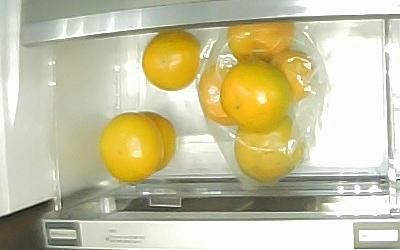persimmon: (219, 58, 290, 132), (100, 112, 164, 183), (142, 29, 201, 92), (140, 110, 177, 174)
persimmon_vinyl: (234, 115, 305, 182), (227, 20, 295, 63), (197, 60, 238, 126), (268, 48, 314, 100)
